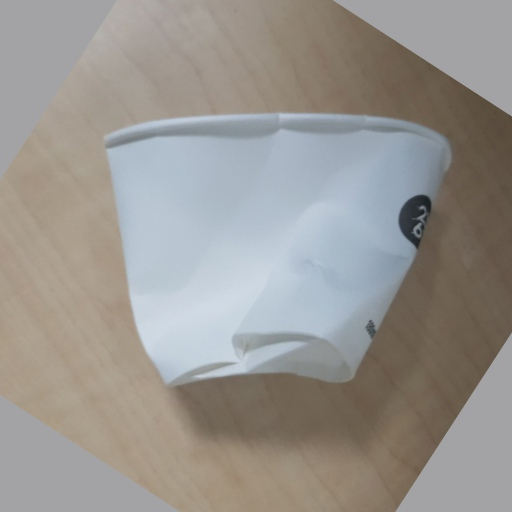Paper_1: (103, 115, 453, 390)
